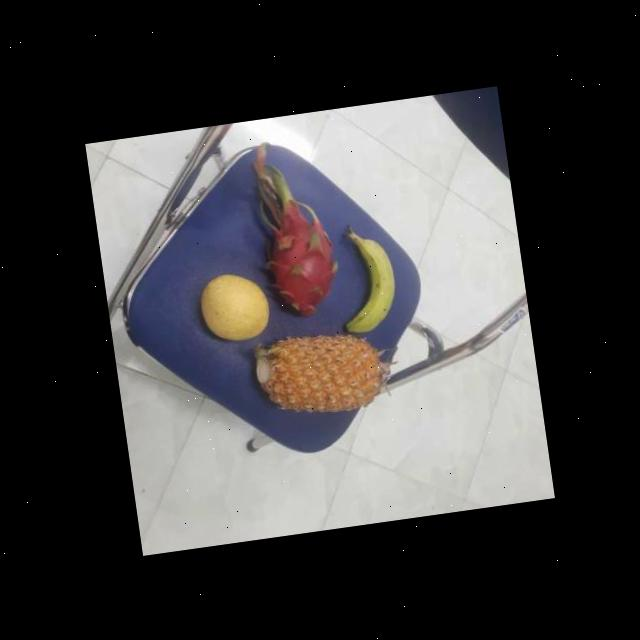banana: (332, 232, 404, 343)
pear: (195, 266, 274, 350)
pineapple: (252, 324, 389, 426)
pitaya: (255, 199, 344, 324)
